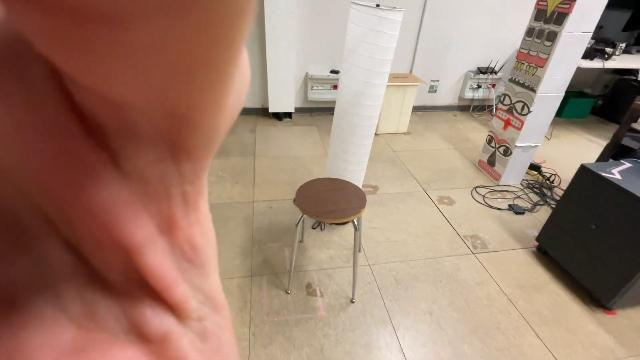Lamp: (321, 0, 409, 198)
Stool: (279, 173, 367, 312)
